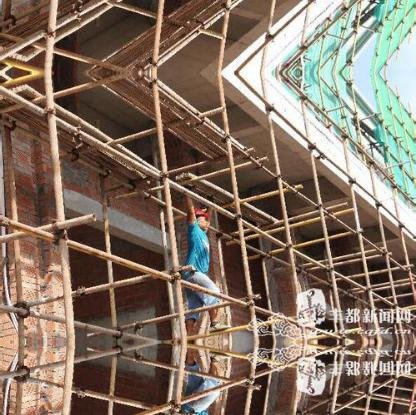helmet: (186, 199, 215, 225)
